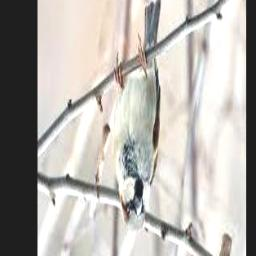Sparrow: (114, 0, 161, 232)
